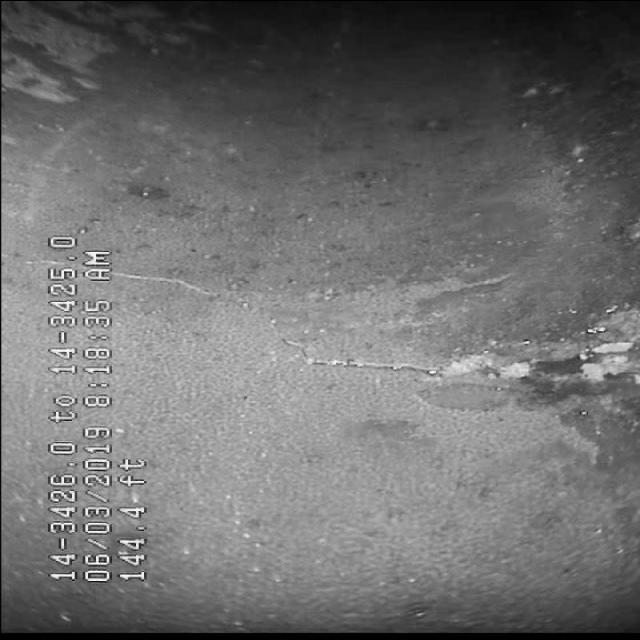Crack: (174, 312, 586, 404)
